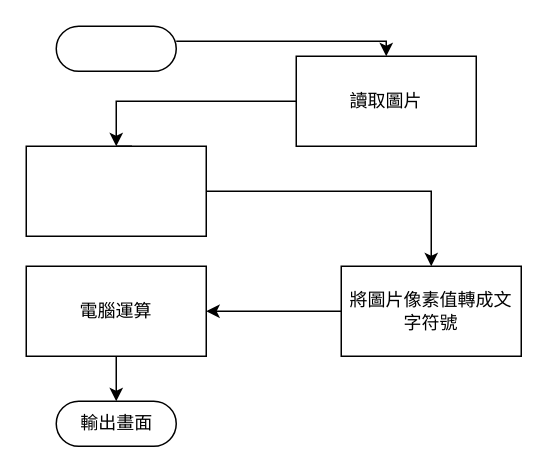
This 548x473 diagram has some shape labels left out. Here are the shapes that lost their labels. From the top down, the centre of each, then its label:
(115,48): 製作圖片
(115,190): 圖像灰階化
